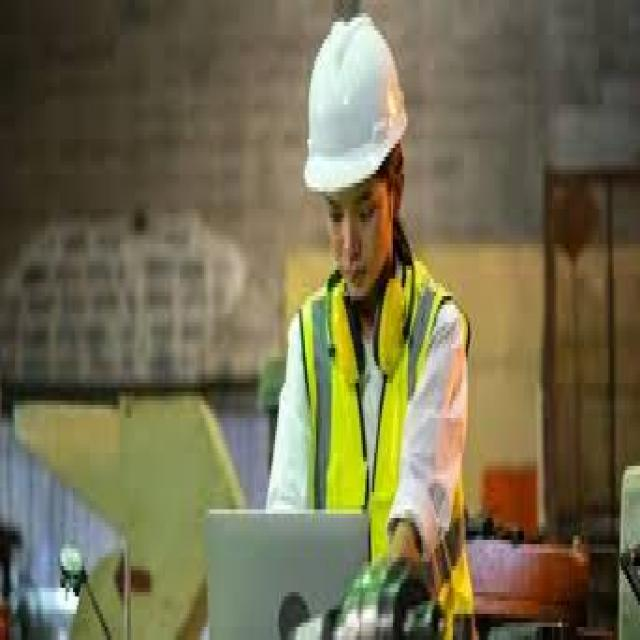Reflective-Jacket: (284, 253, 481, 632)
Safety-Helmet: (294, 9, 414, 213)
